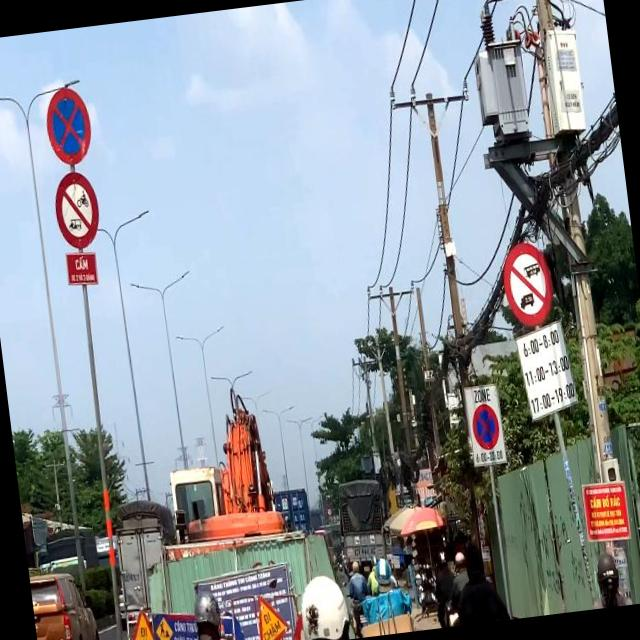P-104: (52, 171, 101, 248)
P-130: (42, 82, 93, 166), (471, 404, 502, 452)
